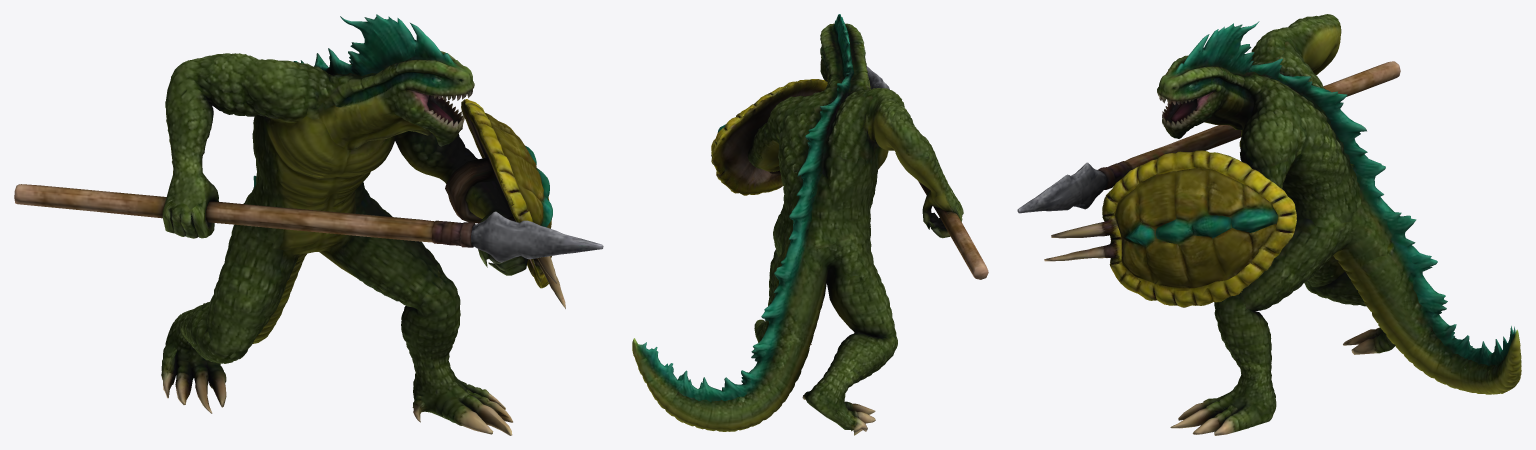
Rendered from MZ4250 - Lizardfolk with Spear.glb.
3 renders of one model, left to right at view 1: azimuth 30°, elevation 25°; view 2: azimuth 150°, elevation 25°; view 3: azimuth 270°, elevation 25°, orthographic. The views are drawn at different scales.
Visible parts, largest first — view 1: Lizardfolk Updated spear and shield.001; view 2: Lizardfolk Updated spear and shield.001; view 3: Lizardfolk Updated spear and shield.001.
Boxes of the visible parts, x1,y1,x2,y2 form: Lizardfolk Updated spear and shield.001: [14, 14, 603, 435]; Lizardfolk Updated spear and shield.001: [632, 14, 988, 435]; Lizardfolk Updated spear and shield.001: [1017, 14, 1521, 435].
Size of the model in its own units: 37.21 by 36.02 by 44.81.
1 material, 1 textured.
